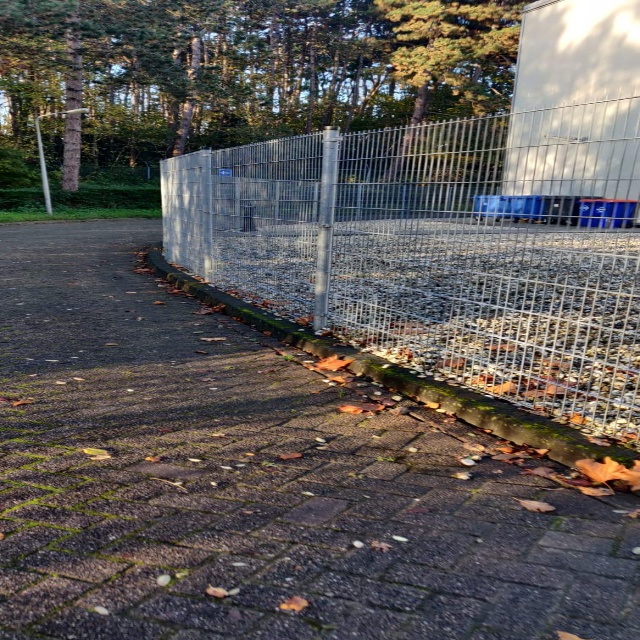obstacle: (159, 334, 454, 535)
